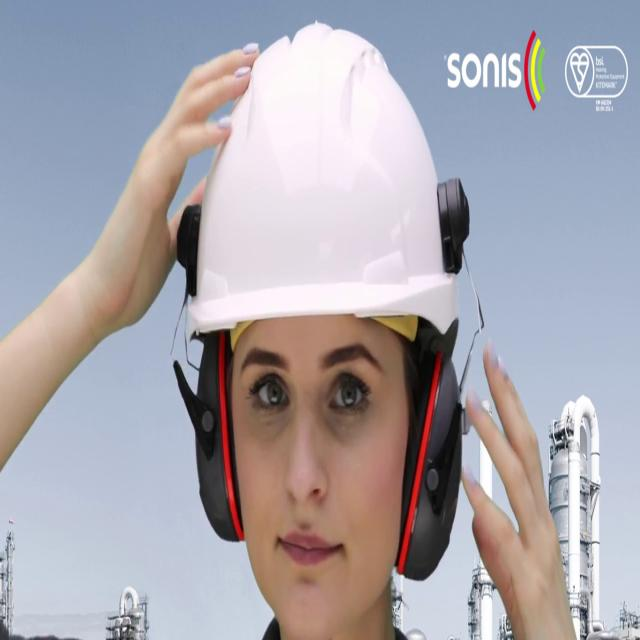earmuff: (393, 342, 471, 589), (182, 326, 250, 552)
helmet: (183, 9, 465, 345)
